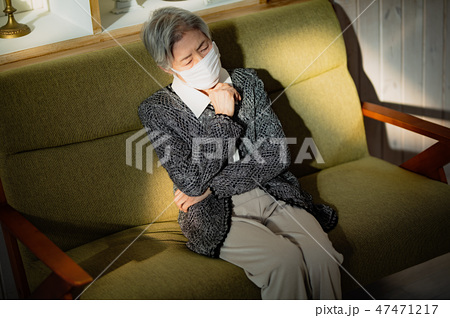mask: (176, 47, 227, 92)
